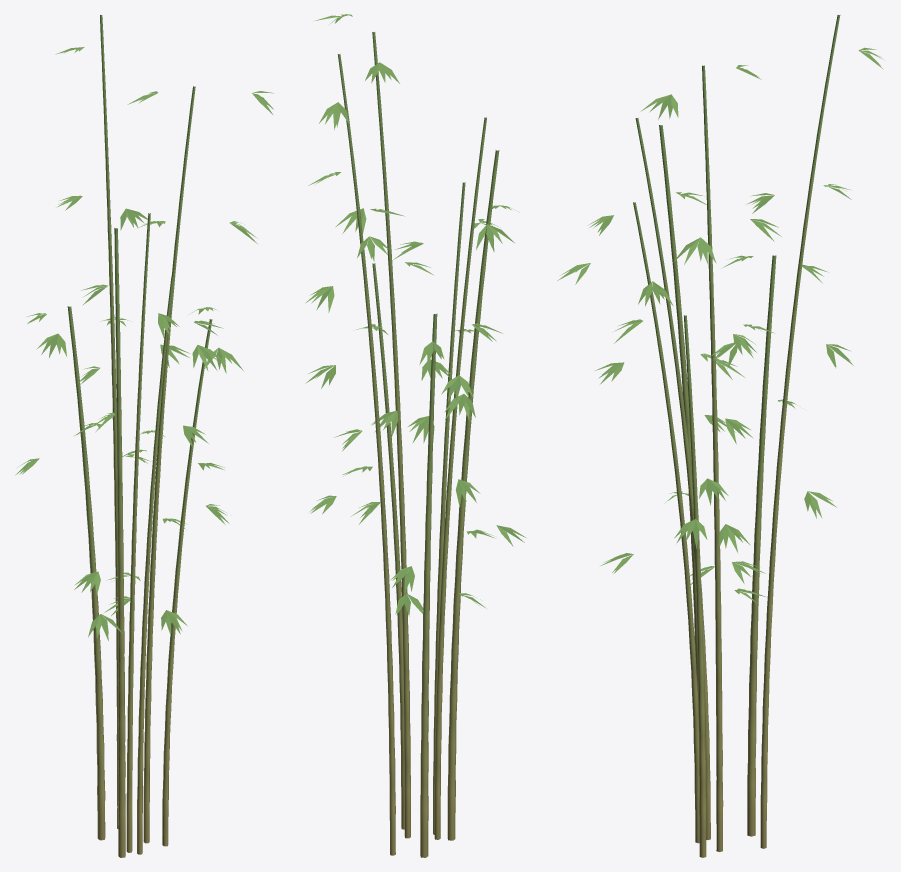
Rendered from bamboo-stand.glb.
The picture shows the model from 3 angles, left to right: view 1: azimuth 30°, elevation 25°; view 2: azimuth 150°, elevation 25°; view 3: azimuth 270°, elevation 25°; orthographic projection. The views are drawn at different scales.
Visible parts, largest first — view 1: LOD0; view 2: LOD0; view 3: LOD0.
Boxes of the visible parts, x1,y1,x2,y2 form: LOD0: (15, 15, 273, 857); LOD0: (305, 14, 525, 857); LOD0: (557, 15, 883, 857).
Size of what is drawn, in the model's own units: 2.89 by 10.37 by 3.7.
